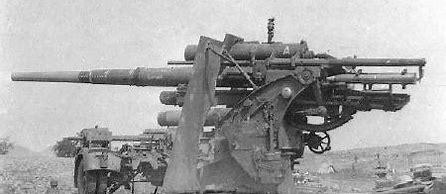MIL_SPG: (11, 18, 425, 193)
